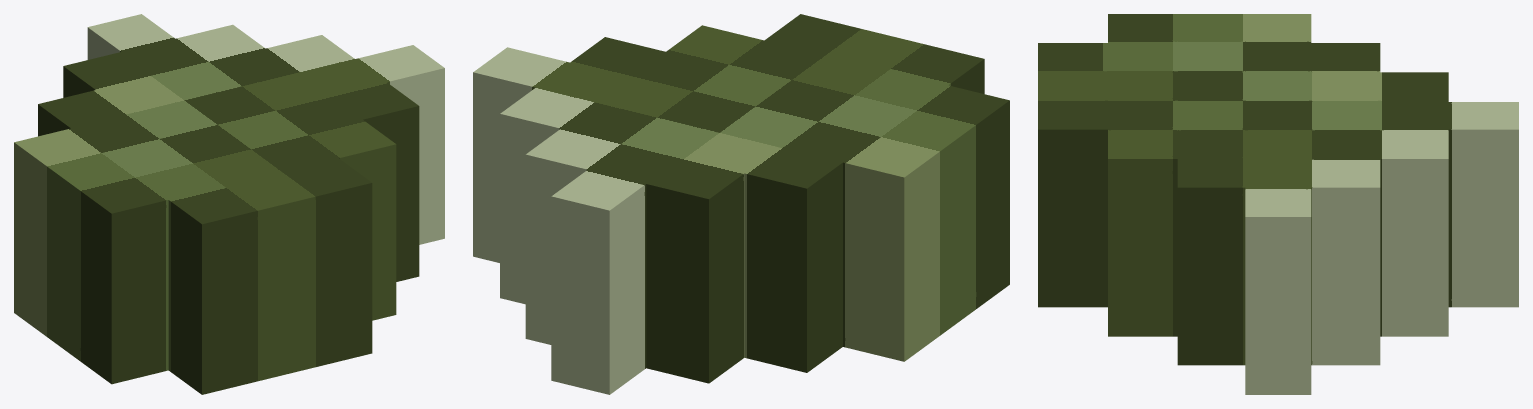
Rendered from garbage_415x29.gltf.
The picture shows the model from 3 angles, left to right: view 1: azimuth 30°, elevation 25°; view 2: azimuth 150°, elevation 25°; view 3: azimuth 270°, elevation 25°; orthographic projection. The views are drawn at different scales.
Parts seen in each view (by area): view 1: garbage_415x29; view 2: garbage_415x29; view 3: garbage_415x29.
Boxes of the visible parts, left/top/right/bottom form: garbage_415x29: left=14, top=14, right=444, bottom=394; garbage_415x29: left=473, top=14, right=1009, bottom=394; garbage_415x29: left=1038, top=14, right=1518, bottom=394.
Bounding box in the file's own units: 0.432 × 0.1764 × 0.4323.
1 material, 1 textured.
